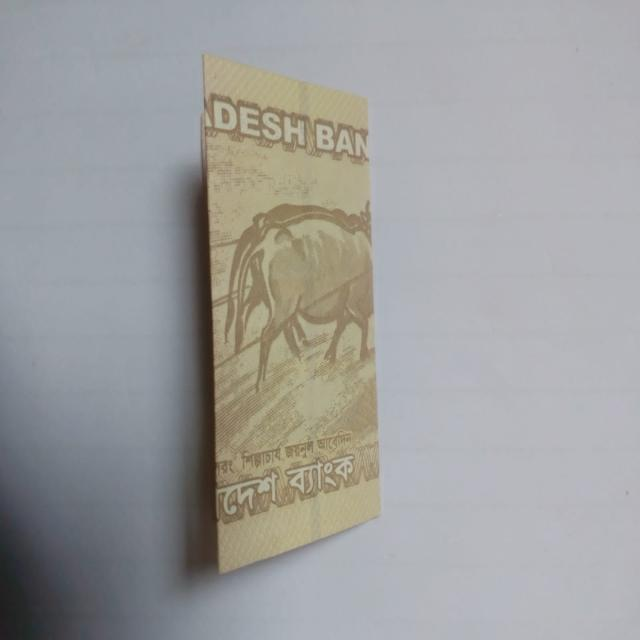Taka: (194, 42, 401, 570)
